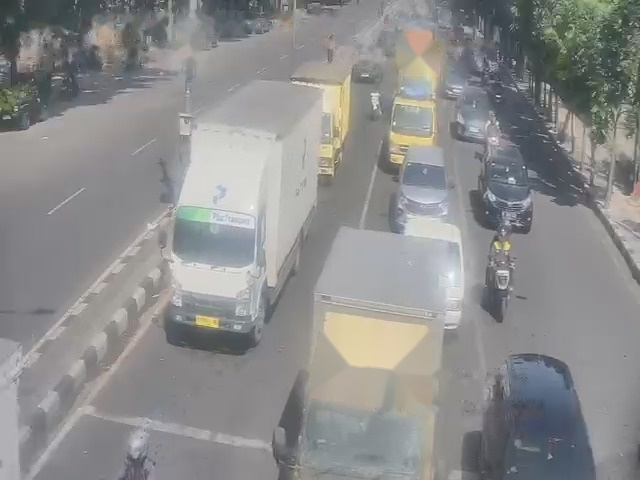Mobil: (493, 355, 594, 480), (405, 217, 464, 330), (476, 141, 535, 227), (393, 142, 449, 221), (456, 87, 493, 142)
Motor: (486, 214, 515, 321)
Truk: (272, 228, 449, 479), (167, 78, 322, 342), (292, 47, 354, 182), (387, 97, 434, 166)
